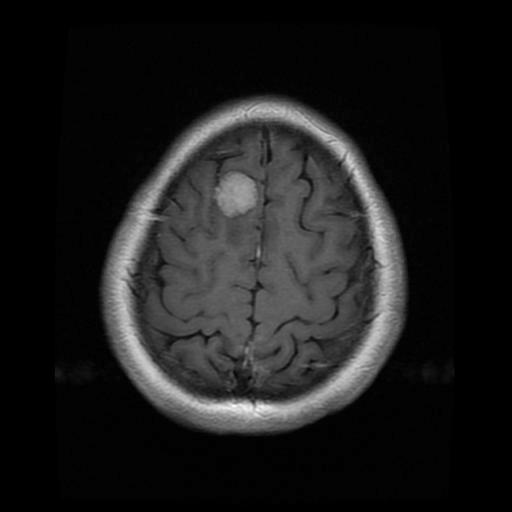Tumour-Meningioma: (206, 161, 268, 231)
